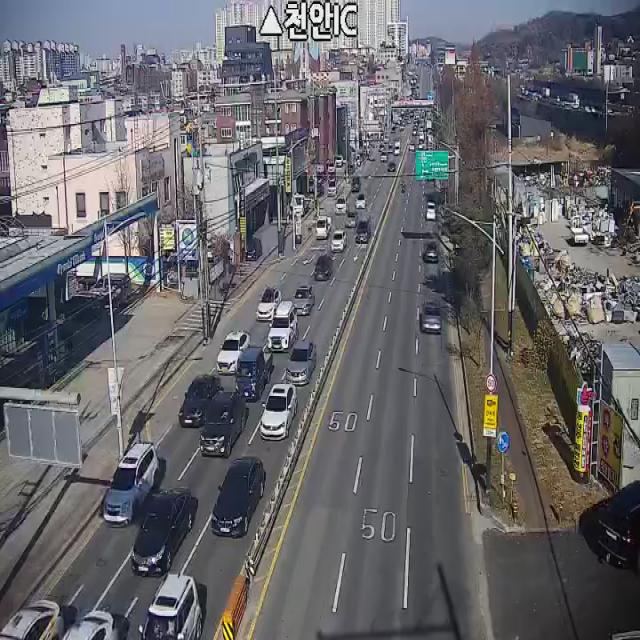Car: (131, 487, 193, 575), (102, 444, 161, 527), (210, 458, 266, 539), (138, 573, 203, 640), (596, 480, 640, 570), (199, 391, 246, 457), (178, 375, 224, 428), (0, 601, 62, 639), (260, 384, 298, 441), (235, 347, 272, 400), (63, 611, 119, 640), (217, 331, 250, 375), (89, 274, 132, 307), (268, 304, 298, 351), (286, 342, 316, 386), (256, 286, 282, 322), (420, 300, 442, 334), (292, 284, 316, 314), (314, 254, 333, 280), (355, 219, 371, 243), (245, 238, 262, 260), (331, 229, 346, 252), (425, 240, 440, 263), (335, 193, 349, 214), (345, 210, 359, 228), (355, 192, 369, 209), (427, 201, 436, 222), (328, 178, 338, 196), (352, 175, 362, 192), (335, 153, 344, 167), (388, 158, 397, 172), (328, 162, 335, 175), (380, 152, 388, 162)
Truck: (572, 213, 590, 244), (316, 215, 332, 241)
